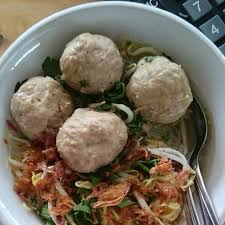bakso: (8, 21, 214, 178)
